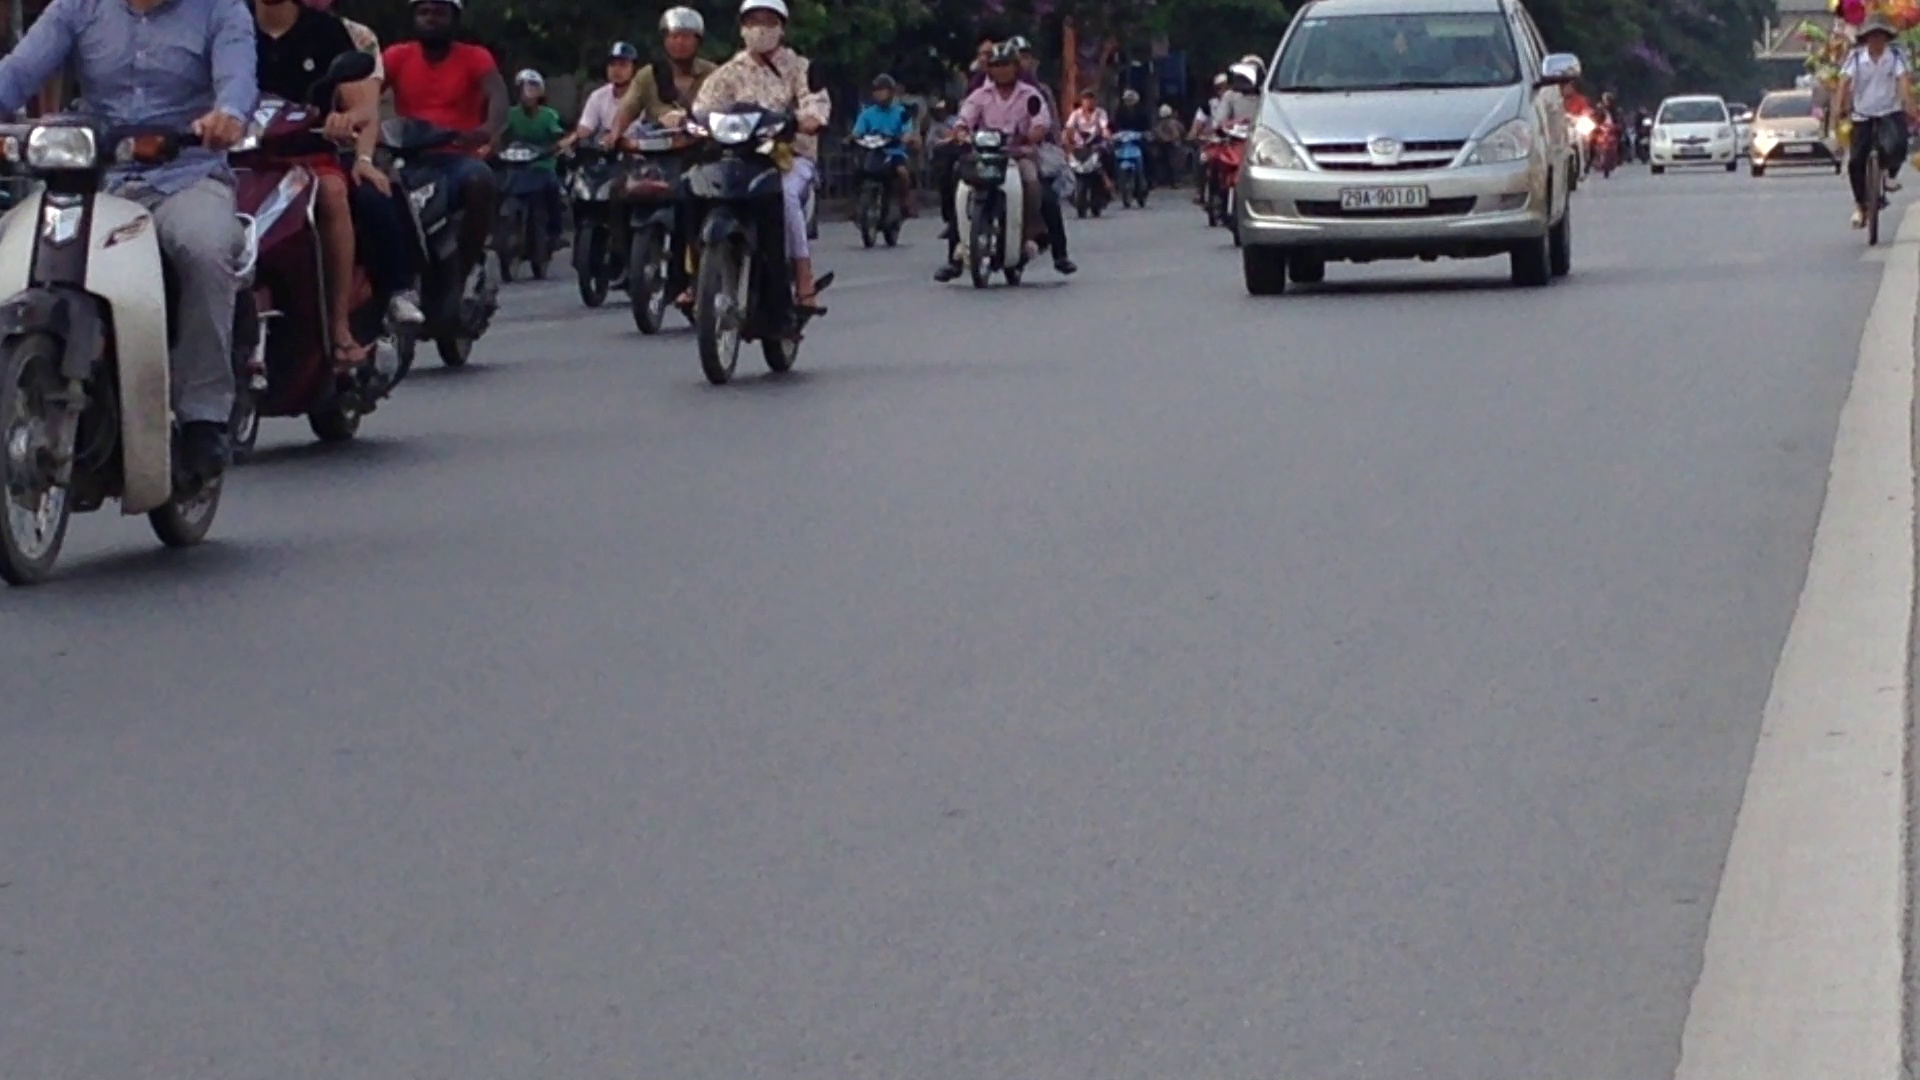vehicle-plate: (1331, 174, 1433, 214)
